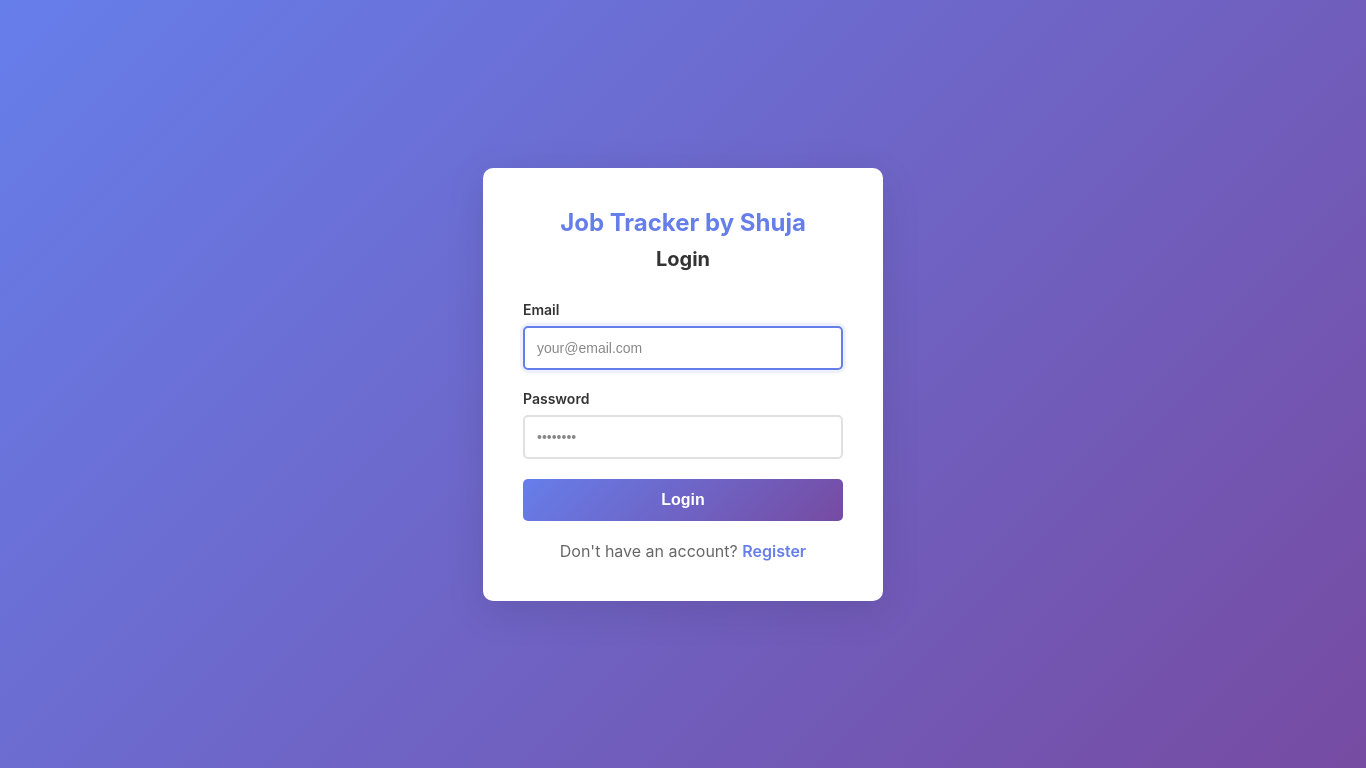
Login Component › Error Handling › displays generic error when no detail provided
In the field with placeholder "your@email.com": (683, 348) [523,326,843,370], type "test@example.com"
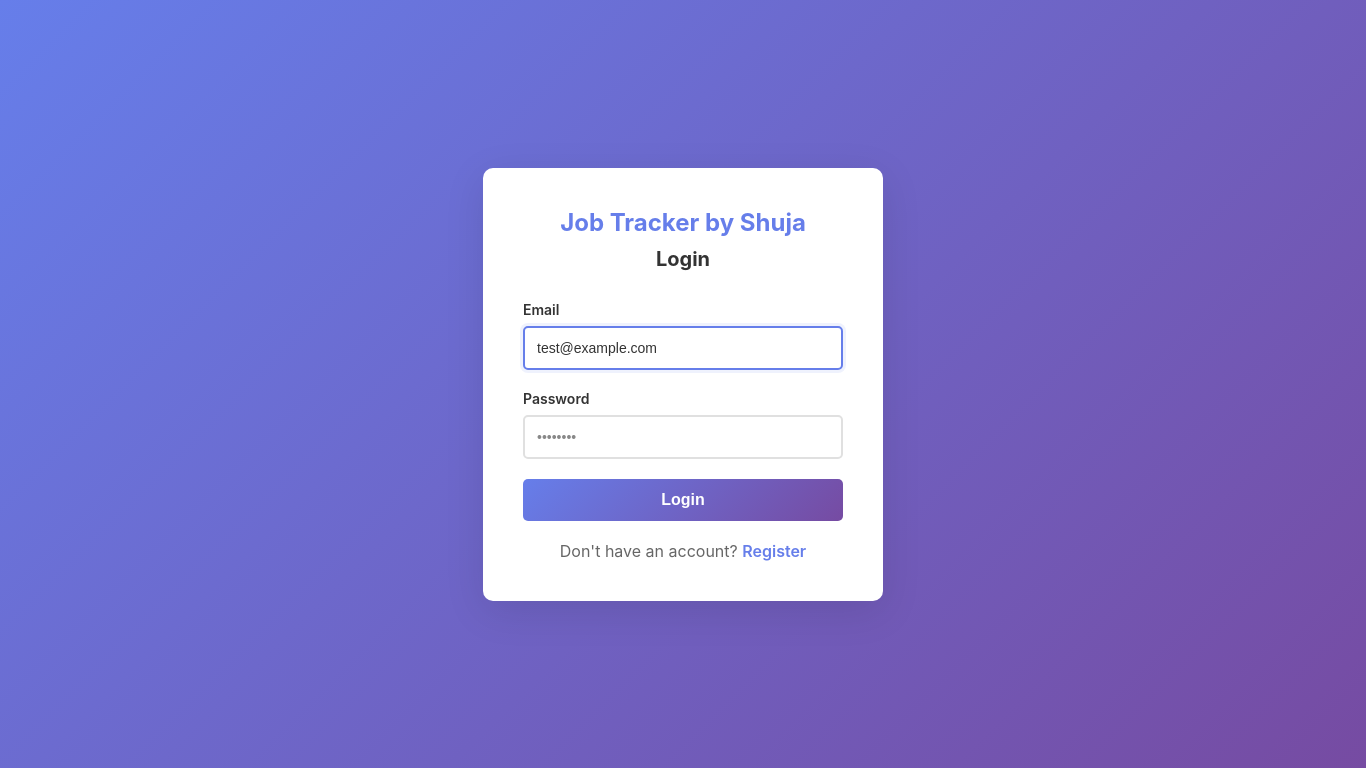
In the password field with placeholder "••••••••": (683, 436) [523,414,843,458], type "password123"
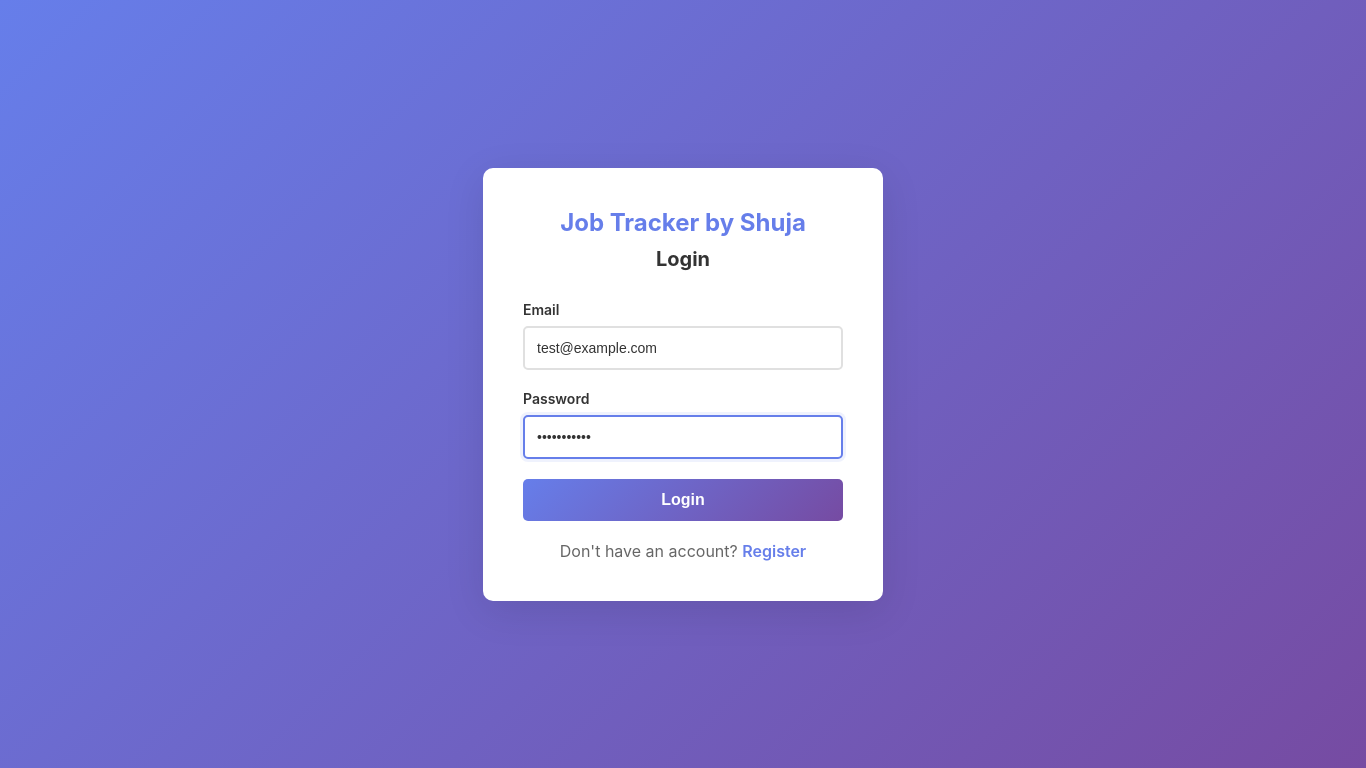
Click the button "Login": (683, 500) [523,478,843,520]
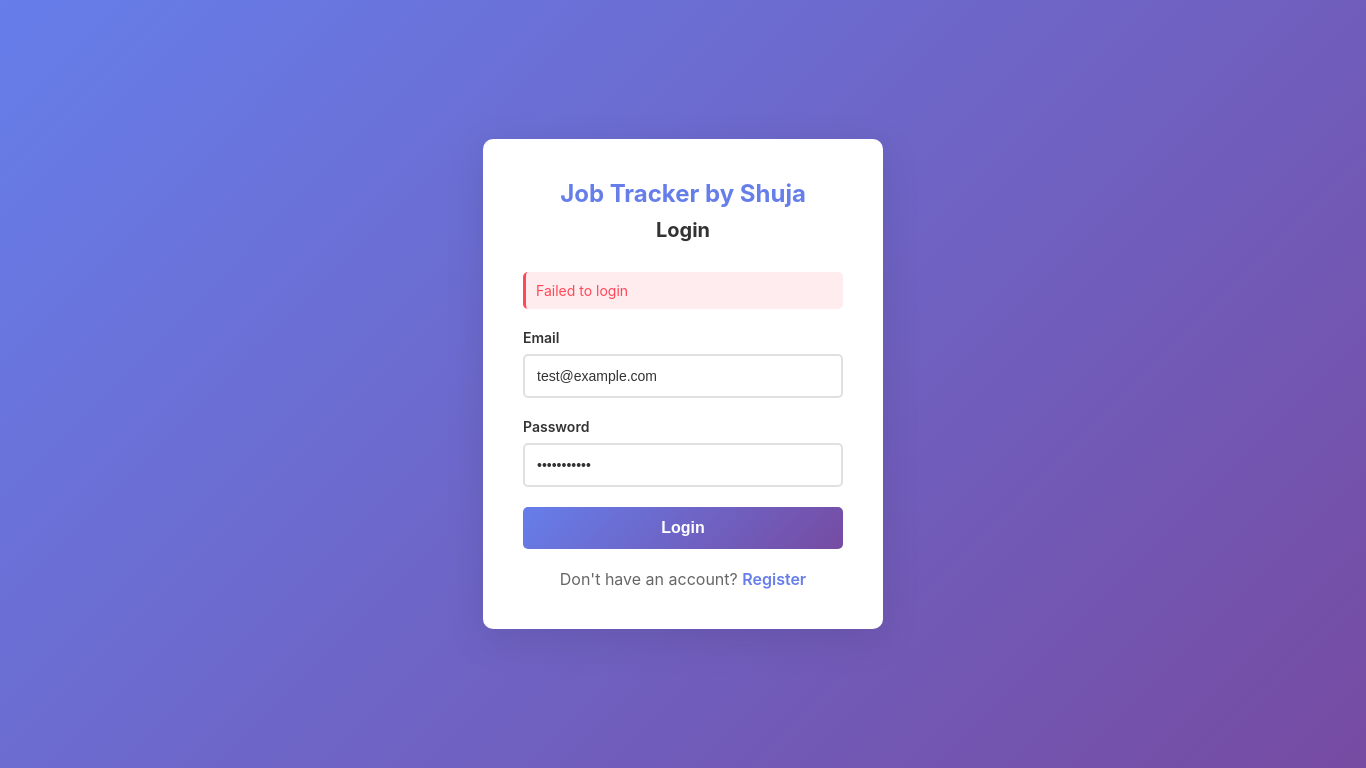
Expected: the text "Failed to login" is shown, [523,272,843,309]
